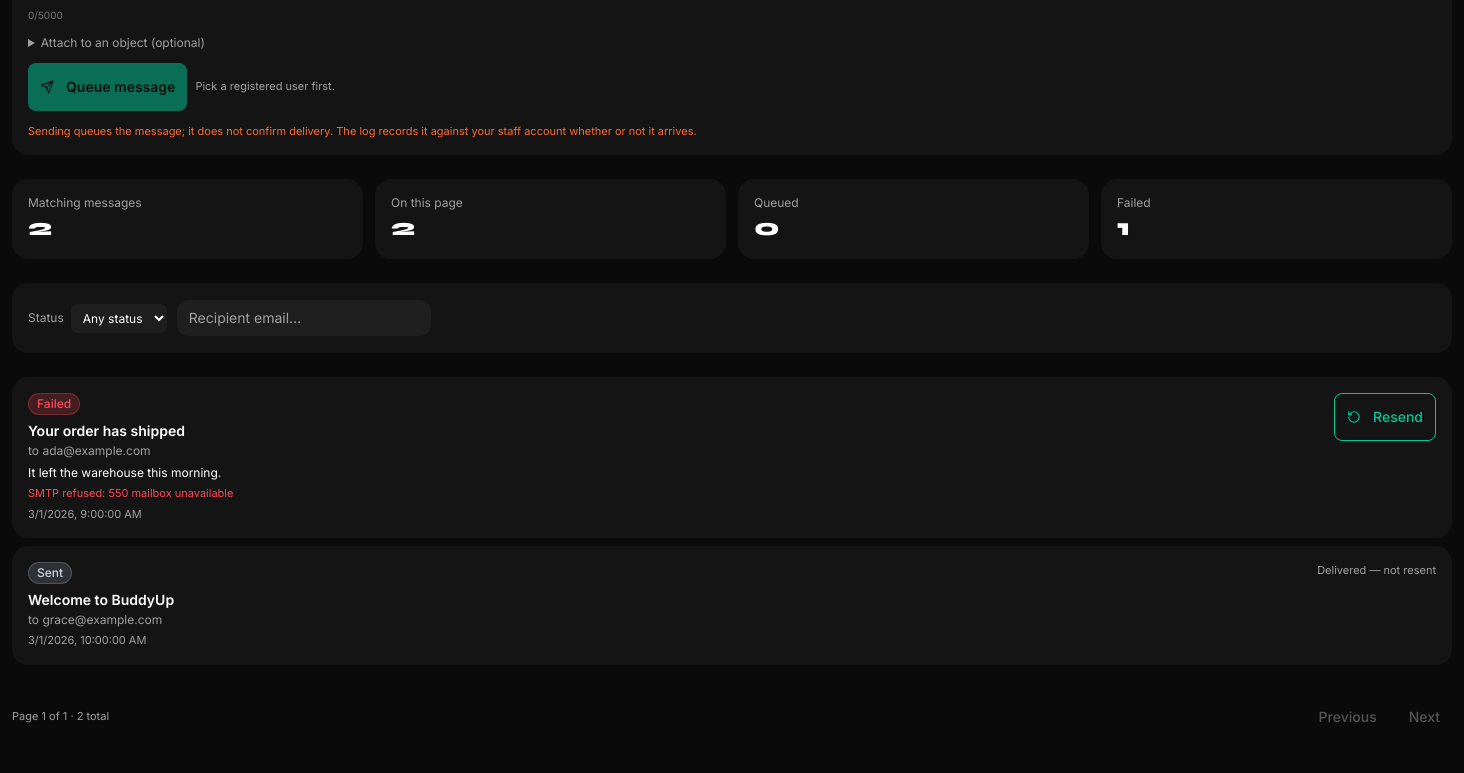
it: AdminEmail — the log › surfaces the 409 when a message that is not failed is resent
The image size is (1464, 773).
(page scrolled)
Click the button "Resend" at (1385, 417), box [1334,393,1436,441]
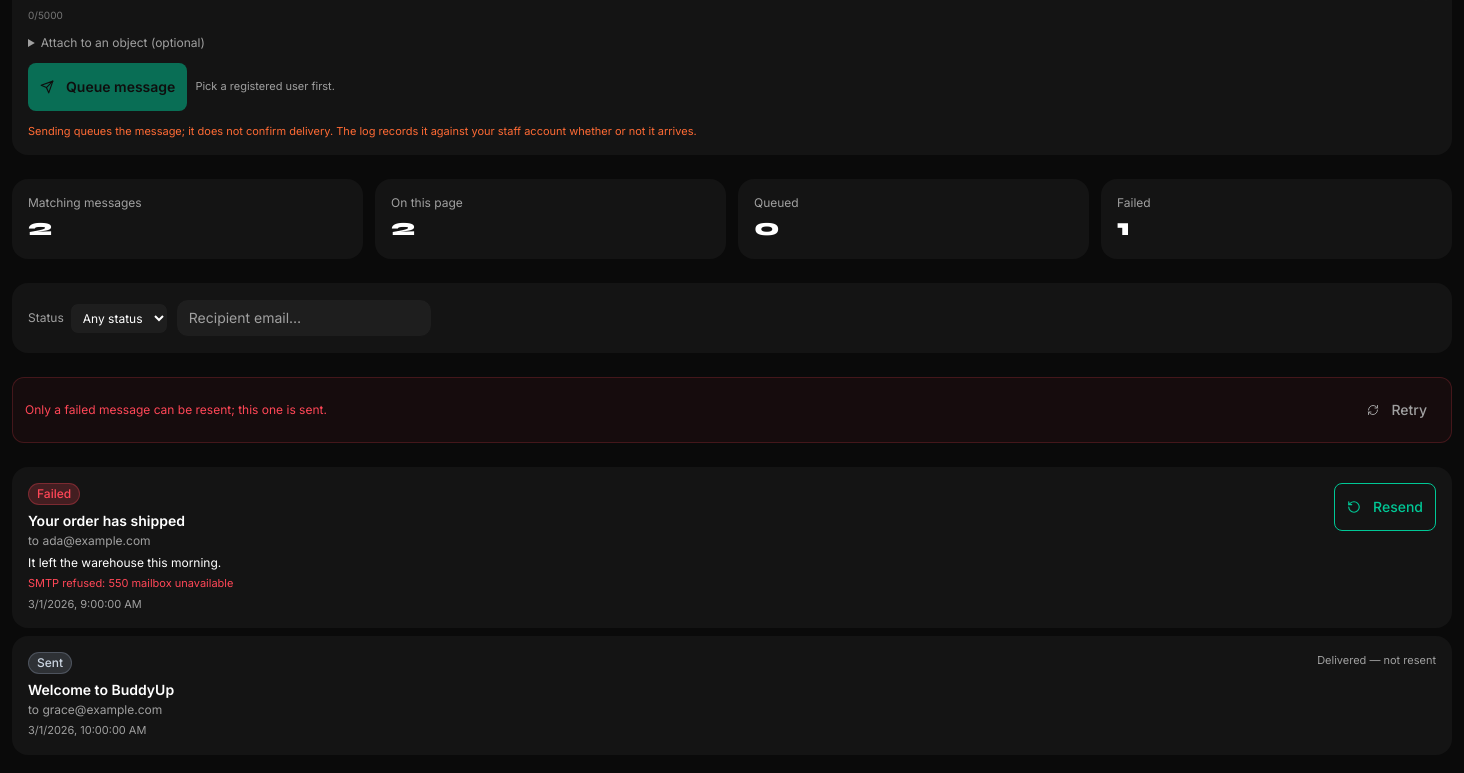
Expected: the text "Only a failed message can be resent; this one is sent." is shown, [25,402,327,418]
